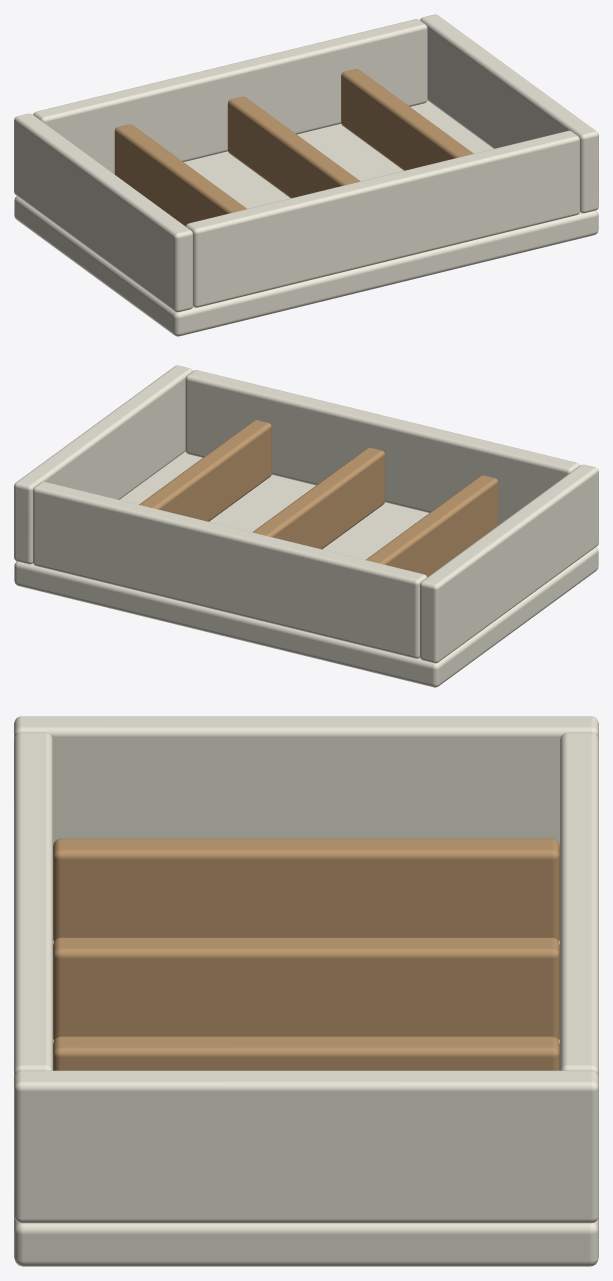
Rendered from beekeeping-and-honey-farm-feeder-tray-356c45c7__30724.glb.
The picture shows the model from 3 angles, top to bottom: view 1: azimuth 30°, elevation 25°; view 2: azimuth 150°, elevation 25°; view 3: azimuth 270°, elevation 25°; orthographic projection. The views are drawn at different scales.
Parts seen in each view (by area): view 1: feeder-tray; view 2: feeder-tray; view 3: feeder-tray.
Boxes of the visible parts, x1,y1,x2,y2 form: feeder-tray: (14, 14, 598, 336); feeder-tray: (14, 365, 598, 687); feeder-tray: (14, 716, 598, 1266).
Size of the model in its own units: 0.45 by 0.105 by 0.3.
